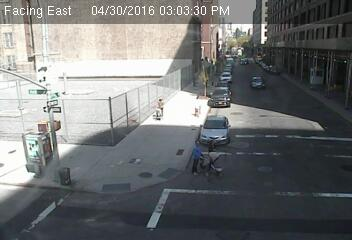neg: (60, 163, 82, 193), (132, 165, 154, 194), (37, 127, 56, 152), (313, 126, 332, 151), (191, 68, 205, 88), (218, 66, 232, 84), (311, 77, 323, 93), (153, 130, 164, 146)
pos: (185, 139, 212, 175), (201, 141, 226, 174), (154, 97, 167, 113)
